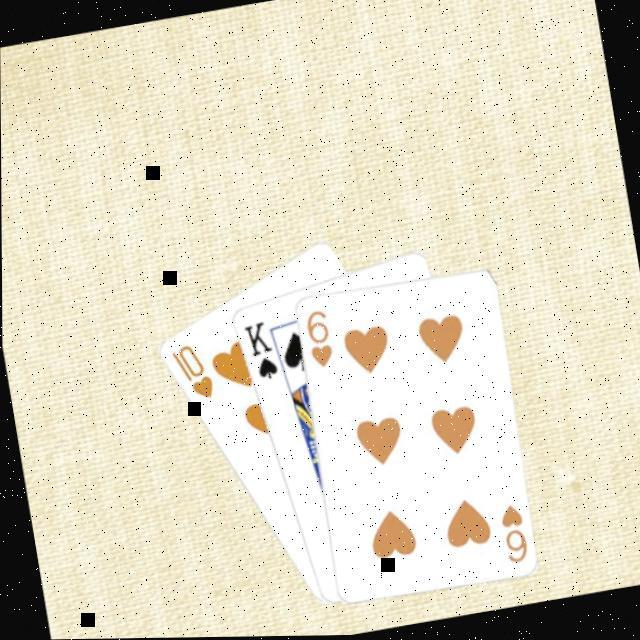10H: (166, 336, 218, 406)
6H: (300, 304, 336, 370), (496, 500, 532, 566)
KS: (240, 316, 282, 384)
